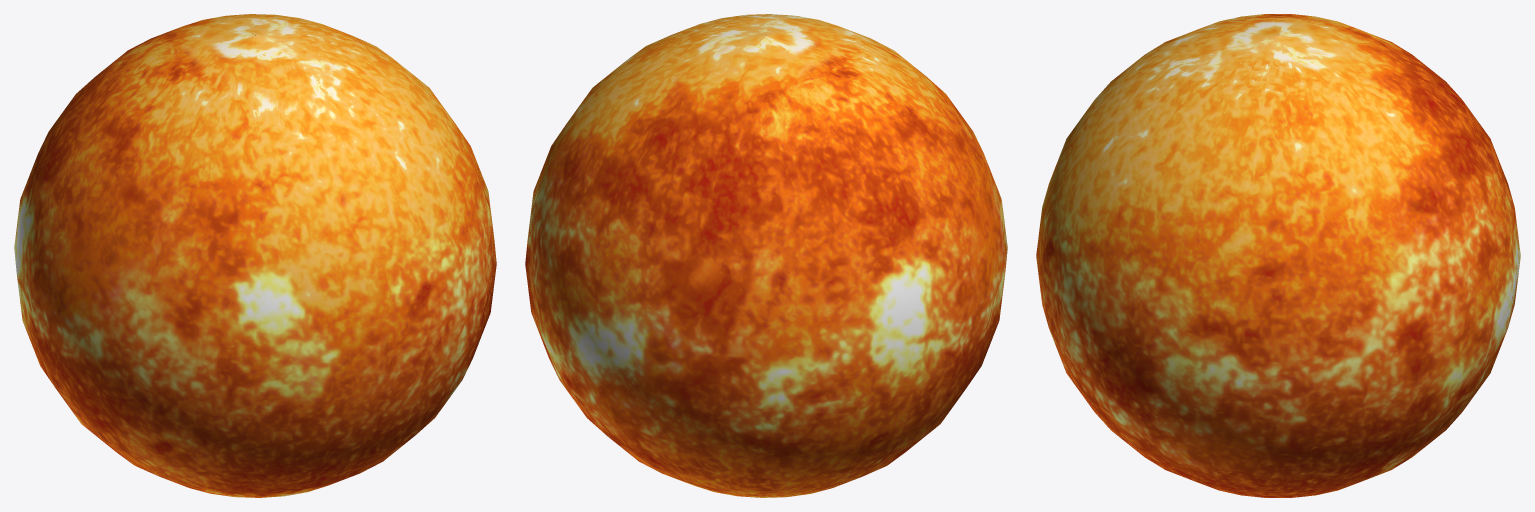
The model's file is sun_emission_01.fbx.
3 views of the same model, side by side, from view 1: azimuth 30°, elevation 25°; view 2: azimuth 150°, elevation 25°; view 3: azimuth 270°, elevation 25° (orthographic).
Visible parts, largest first — view 1: sun_emit; view 2: sun_emit; view 3: sun_emit.
Part boxes in pixels (box(x1,y1,x2,y2)): sun_emit: box(14, 14, 496, 497); sun_emit: box(525, 14, 1007, 497); sun_emit: box(1036, 14, 1520, 497).
Bounding box in the file's own units: 199 × 200 × 200.
Materials: 1 (1 with a texture image).
